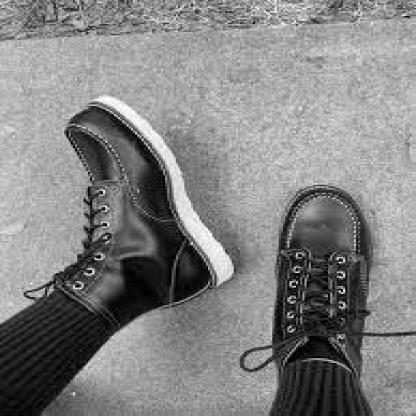ankle: (87, 298, 100, 308), (309, 347, 314, 350)
heel: (196, 286, 203, 291), (277, 361, 281, 365)
left_foot: (54, 97, 236, 323)
pinky: (347, 205, 356, 212), (70, 129, 78, 133)
right_foot: (273, 184, 373, 374)
toe: (297, 204, 308, 212), (96, 120, 107, 126)
